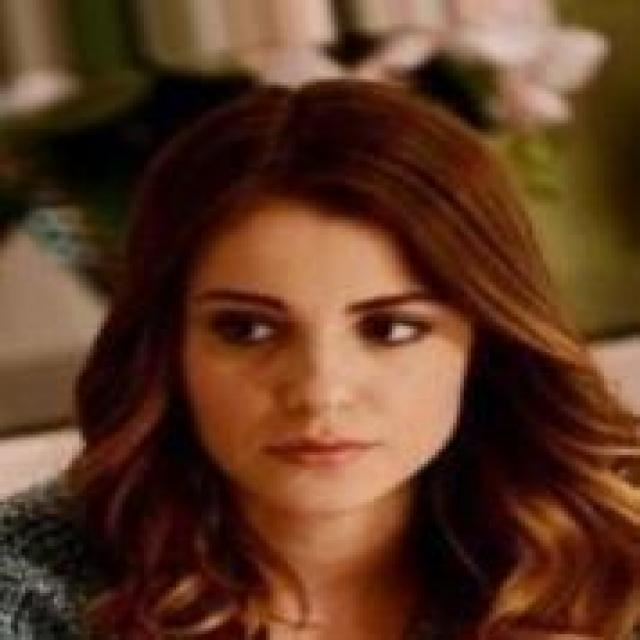nomask: (126, 91, 593, 523)
